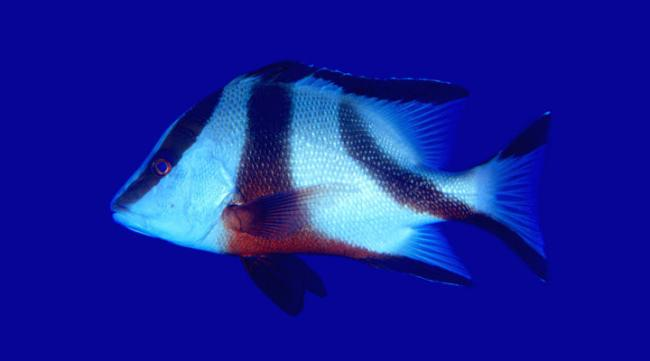fish: (111, 60, 555, 320)
